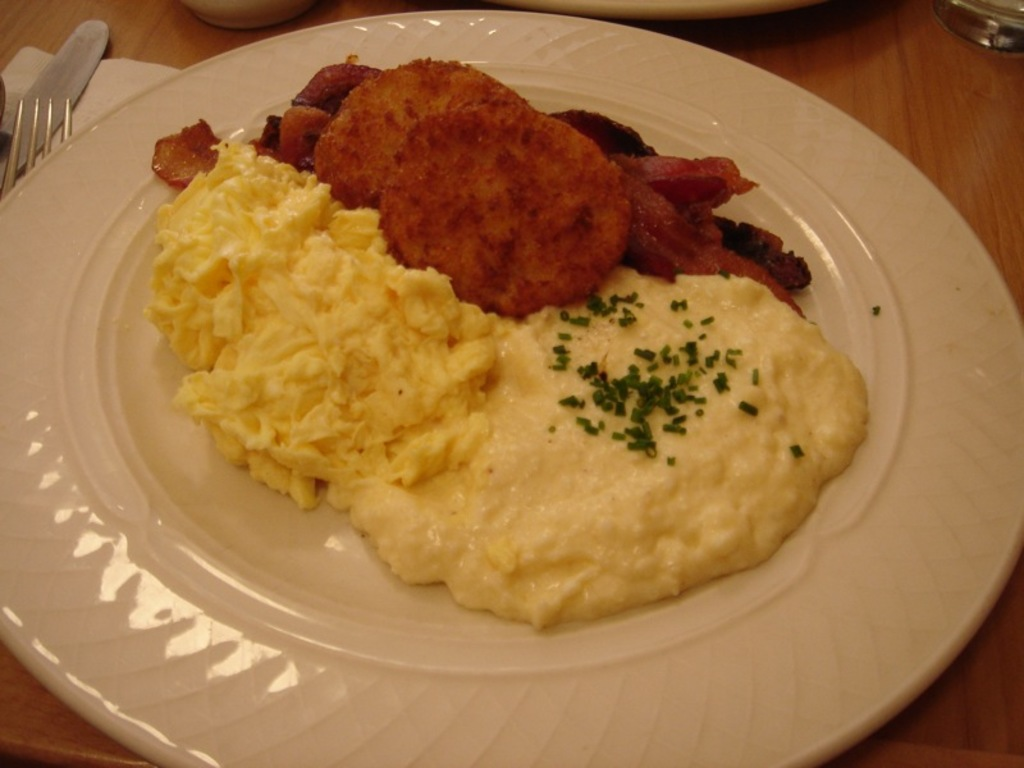kitchen knife: (0, 19, 109, 189)
